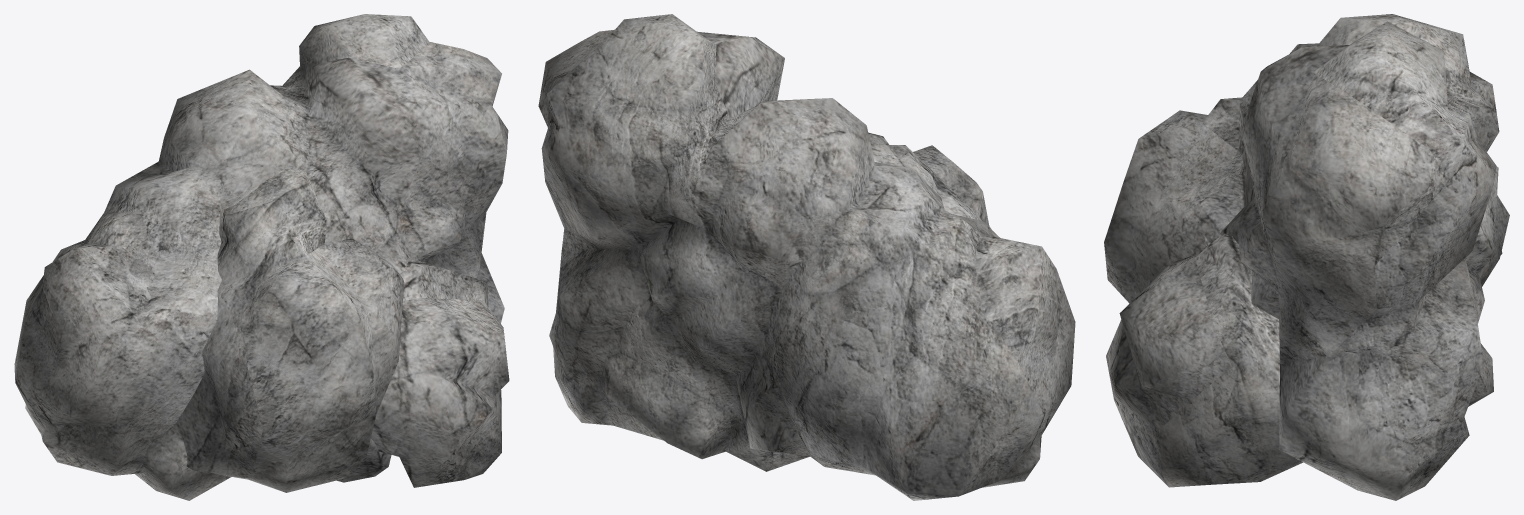
File: rock1.fbx
The picture shows the model from 3 angles, left to right: view 1: azimuth 30°, elevation 25°; view 2: azimuth 150°, elevation 25°; view 3: azimuth 270°, elevation 25°; orthographic projection. The views are drawn at different scales.
Parts seen in each view (by area): view 1: rock1; view 2: rock1; view 3: rock1.
Part boxes in pixels (x1,y1,x2,y2): rock1: (14, 14, 509, 500); rock1: (538, 14, 1075, 500); rock1: (1104, 14, 1509, 500).
Bounding box in the file's own units: 98.28 × 78.56 × 65.76.
